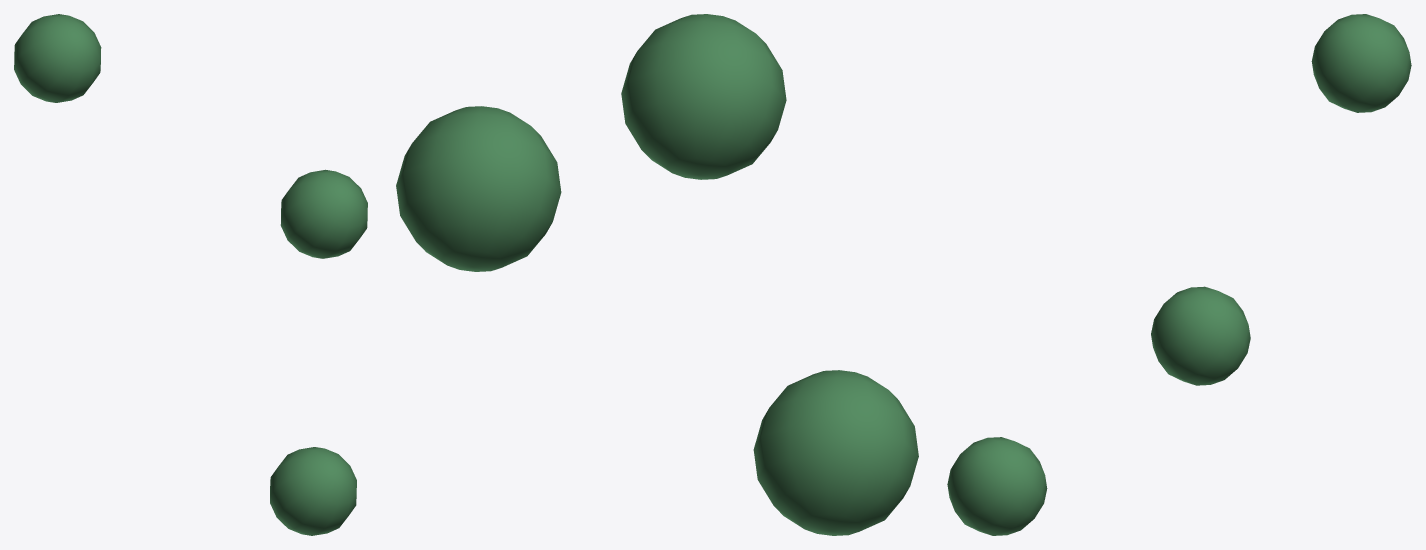
3 views of the same model, side by side, from view 1: azimuth 30°, elevation 25°; view 2: azimuth 150°, elevation 25°; view 3: azimuth 270°, elevation 25° (orthographic). The views are drawn at different scales.
Visible parts, largest first — view 1: 膀胱前淋巴结; view 2: 膀胱前淋巴结; view 3: 膀胱前淋巴结.
Part boxes in pixels (box(x1,y1,x2,y2)): 膀胱前淋巴结: box(14, 14, 367, 535); 膀胱前淋巴结: box(396, 14, 918, 535); 膀胱前淋巴结: box(947, 14, 1411, 535).
Bounding box in the file's own units: 0.0133 × 0.0196 × 0.0177.
